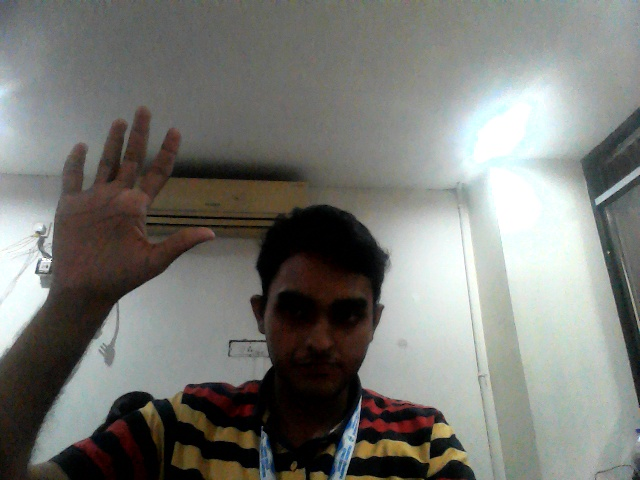palm: (46, 103, 219, 305)
